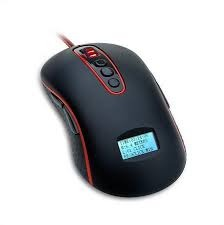mouse: (36, 38, 190, 203)
